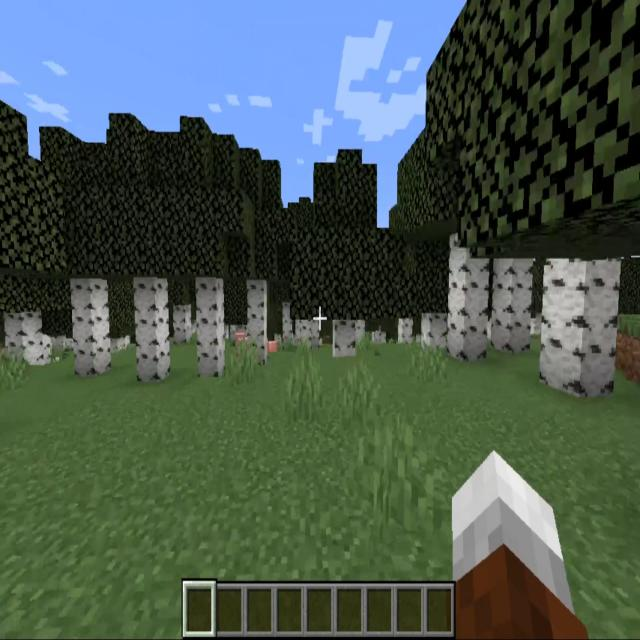Pig: (236, 325, 249, 370), (265, 335, 281, 356)
